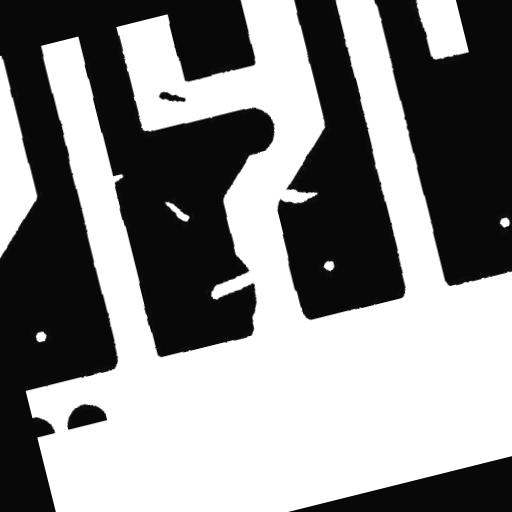copper: (149, 78, 195, 116)
mousebite: (269, 172, 328, 216), (100, 164, 133, 193)
open: (201, 258, 273, 308)
pin-hole: (156, 188, 198, 234)
